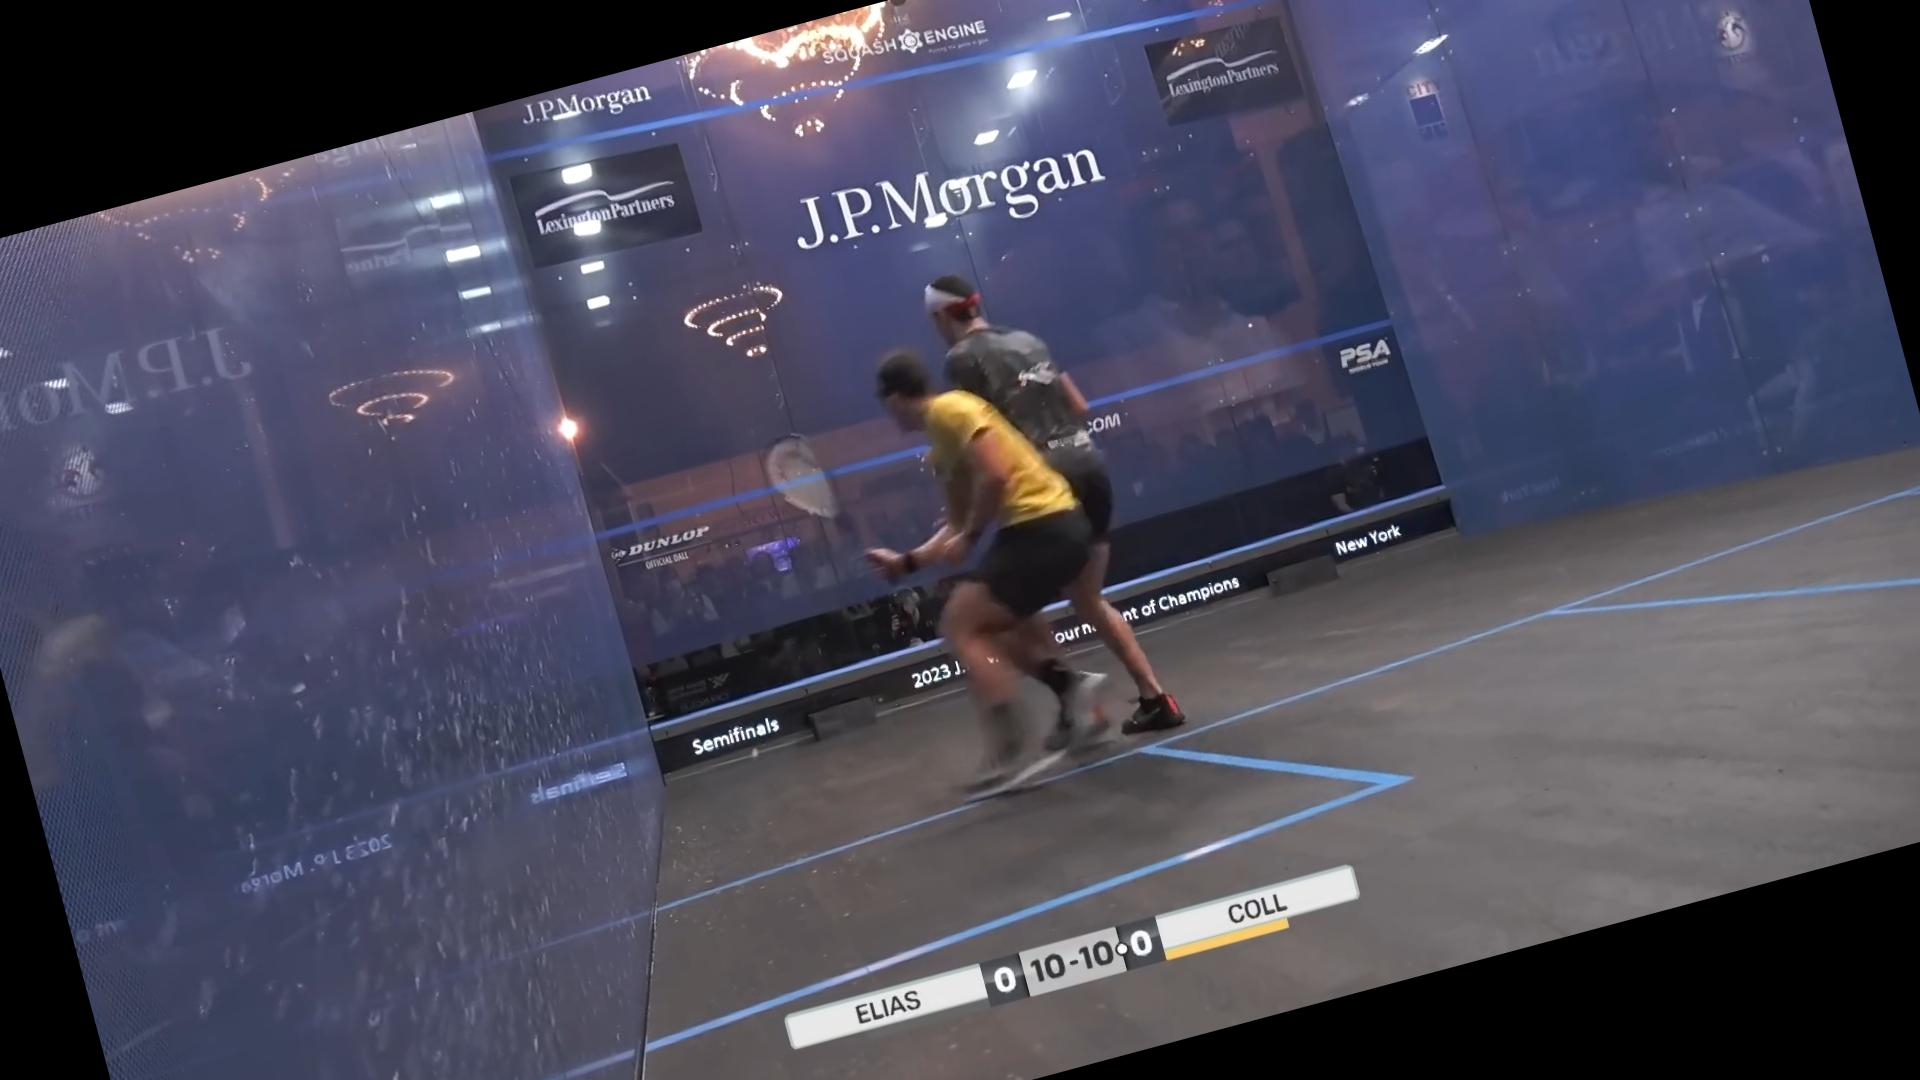Racket: (738, 405, 874, 583)
